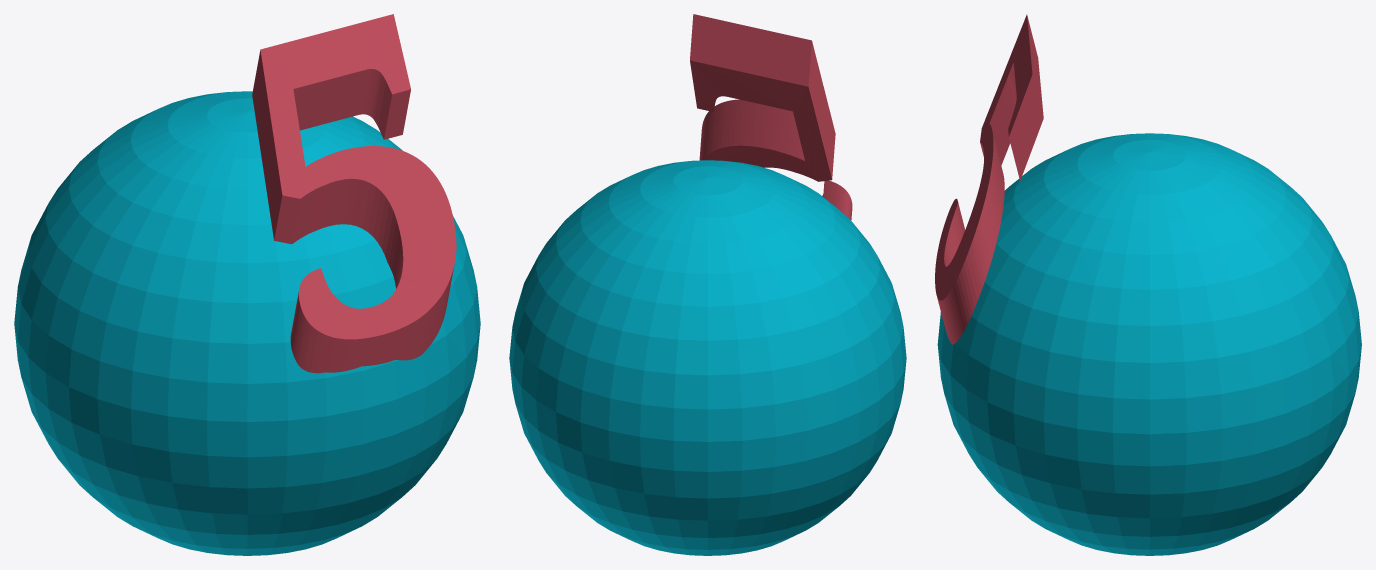
The model's file is number_5.glb.
The picture shows the model from 3 angles, left to right: view 1: azimuth 30°, elevation 25°; view 2: azimuth 150°, elevation 25°; view 3: azimuth 270°, elevation 25°; orthographic projection. The views are drawn at different scales.
Parts seen in each view (by area): view 1: Mesh_Mesh_head_geo.001_lambert2SG.001; view 2: Mesh_Mesh_head_geo.001_lambert2SG.001; view 3: Mesh_Mesh_head_geo.001_lambert2SG.001.
Part boxes in pixels (bbox=[...]): Mesh_Mesh_head_geo.001_lambert2SG.001: bbox=[14, 14, 480, 555]; Mesh_Mesh_head_geo.001_lambert2SG.001: bbox=[509, 14, 906, 555]; Mesh_Mesh_head_geo.001_lambert2SG.001: bbox=[935, 14, 1361, 555].
Bounding box in the file's own units: 20 × 25.94 × 20.13.
